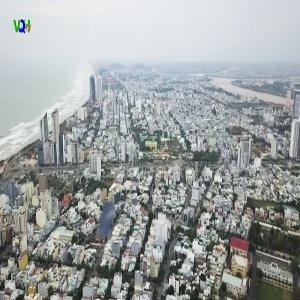drone: (66, 175, 165, 274)
